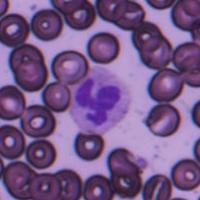N: (69, 66, 131, 134)
